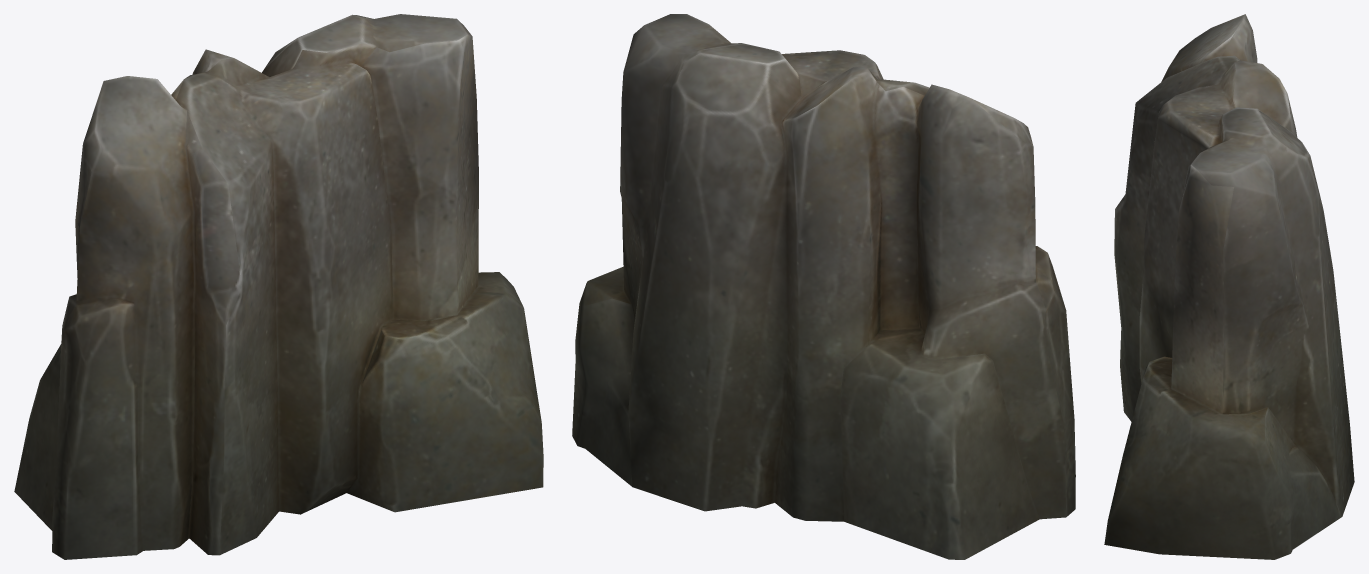
The model's file is Rock1.fbx.
3 renders of one model, left to right at view 1: azimuth 30°, elevation 25°; view 2: azimuth 150°, elevation 25°; view 3: azimuth 270°, elevation 25°, orthographic. The views are drawn at different scales.
Visible parts, largest first — view 1: RockWall4b_ManualRetopo.004_Plane.024; view 2: RockWall4b_ManualRetopo.004_Plane.024; view 3: RockWall4b_ManualRetopo.004_Plane.024.
Part boxes in pixels (bbox=[...]): RockWall4b_ManualRetopo.004_Plane.024: bbox=[14, 14, 543, 559]; RockWall4b_ManualRetopo.004_Plane.024: bbox=[572, 14, 1075, 559]; RockWall4b_ManualRetopo.004_Plane.024: bbox=[1104, 14, 1354, 559].
Bounding box in the file's own units: 509 × 446 × 267.
